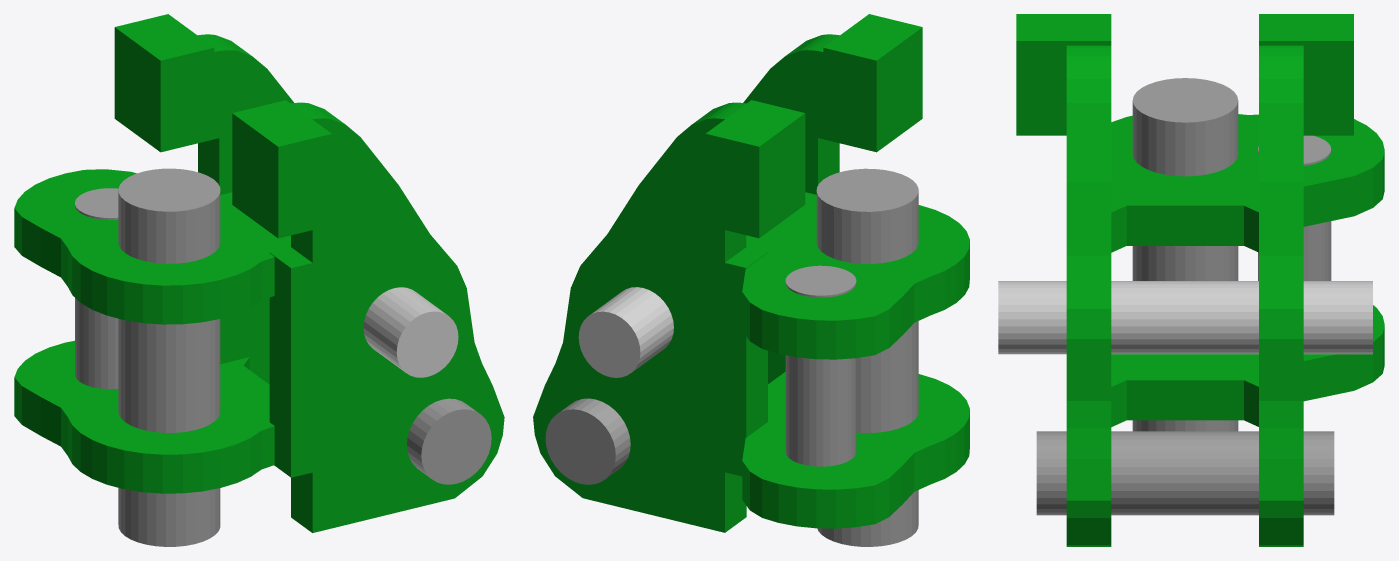
File: Azimuth.dae
3 views of the same model, side by side, from view 1: azimuth 30°, elevation 25°; view 2: azimuth 150°, elevation 25°; view 3: azimuth 270°, elevation 25° (orthographic). The views are drawn at different scales.
Parts seen in each view (by area): view 1: Azimut_Front_Plate, Pivot_Point1, Azimut_Front_Plate_001, Azimuth_Plate1, Azimuth_Plate2, Arm_Base_Bolt1, Arm_Base_Bolt2, Pivot_Point1_002; view 2: Azimut_Front_Plate, Azimut_Front_Plate_001, Azimuth_Plate1, Azimuth_Plate2, Pivot_Point1, Pivot_Point1_002, Arm_Base_Bolt1, Arm_Base_Bolt2; view 3: Azimut_Front_Plate, Arm_Base_Bolt1, Azimuth_Plate1, Arm_Base_Bolt2, Azimut_Front_Plate_001, Pivot_Point1, Azimuth_Plate2, Pivot_Point1_002.
Boxes of the visible parts, left/top/right/bottom form: Azimut_Front_Plate: left=198, top=34, right=504, bottom=532; Pivot_Point1: left=118, top=168, right=220, bottom=546; Azimut_Front_Plate_001: left=114, top=14, right=331, bottom=238; Azimuth_Plate1: left=14, top=169, right=290, bottom=324; Azimuth_Plate2: left=14, top=340, right=274, bottom=493; Arm_Base_Bolt1: left=363, top=287, right=458, bottom=377; Arm_Base_Bolt2: left=407, top=398, right=491, bottom=484; Pivot_Point1_002: left=75, top=188, right=118, bottom=389; Azimut_Front_Plate: left=533, top=34, right=839, bottom=532; Azimut_Front_Plate_001: left=705, top=14, right=922, bottom=238; Azimuth_Plate1: left=742, top=192, right=969, bottom=359; Azimuth_Plate2: left=742, top=372, right=969, bottom=528; Pivot_Point1: left=816, top=168, right=918, bottom=546; Pivot_Point1_002: left=785, top=265, right=856, bottom=466; Arm_Base_Bolt1: left=578, top=287, right=673, bottom=377; Arm_Base_Bolt2: left=545, top=398, right=630, bottom=484; Azimut_Front_Plate: left=1066, top=45, right=1303, bottom=546; Arm_Base_Bolt1: left=998, top=281, right=1372, bottom=354; Azimuth_Plate1: left=1111, top=114, right=1384, bottom=252; Arm_Base_Bolt2: left=1036, top=431, right=1334, bottom=515; Azimut_Front_Plate_001: left=1016, top=14, right=1353, bottom=135; Pivot_Point1: left=1132, top=78, right=1238, bottom=431; Azimuth_Plate2: left=1111, top=305, right=1384, bottom=426; Pivot_Point1_002: left=1258, top=135, right=1331, bottom=280.
Size of the model in its own units: 0.1497 by 0.1326 by 0.1687.
